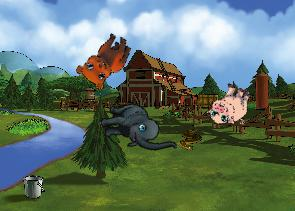bear: (72, 24, 135, 94)
elephant: (97, 94, 177, 164)
pig: (204, 78, 256, 132)
